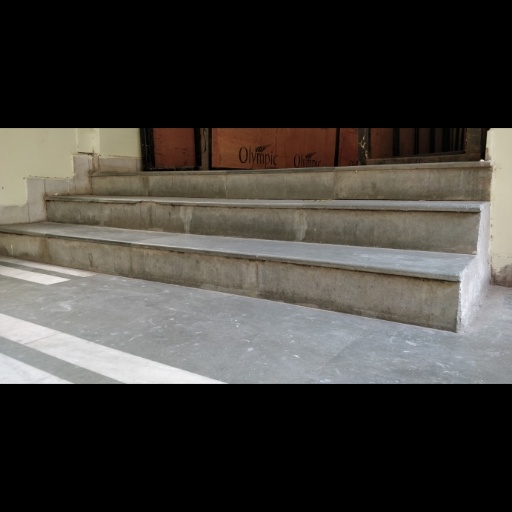Stairs: (0, 162, 491, 331)
